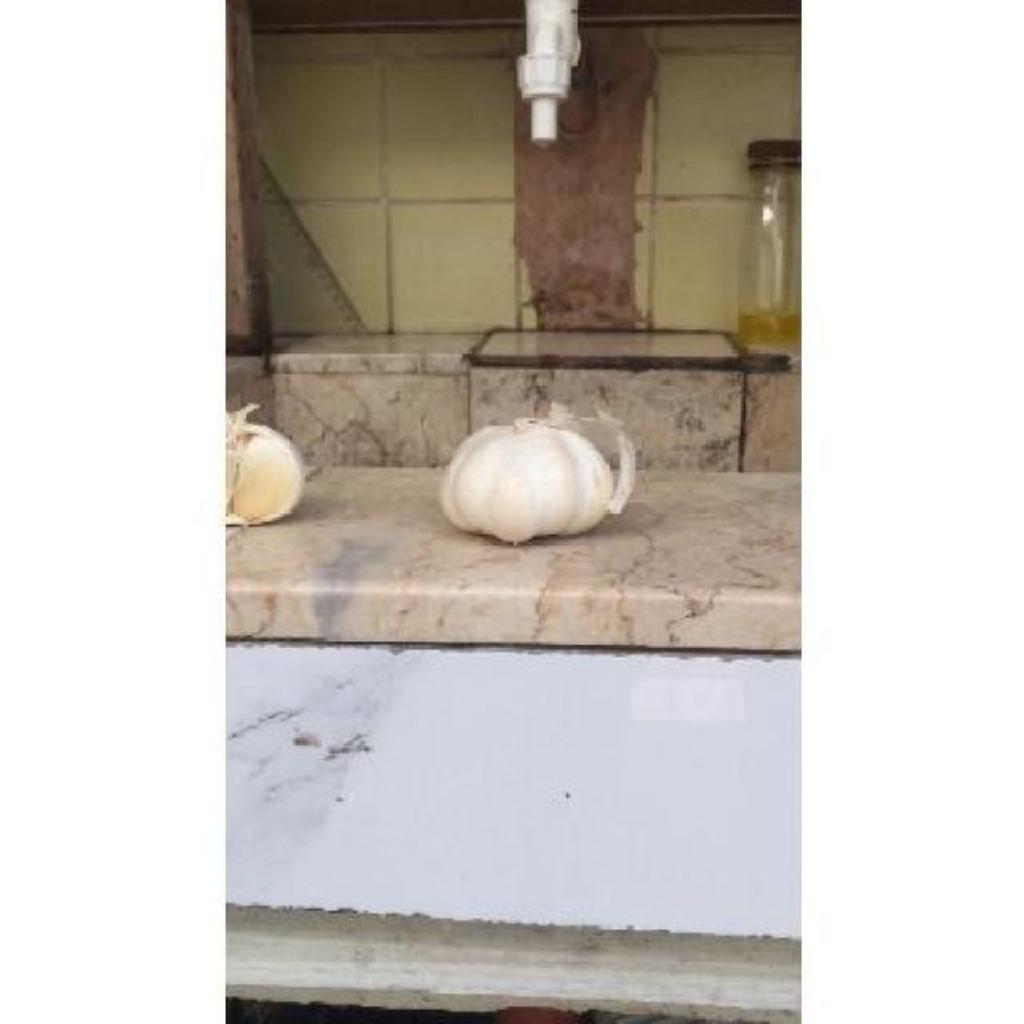garlic: (440, 406, 636, 543), (226, 404, 306, 523)
